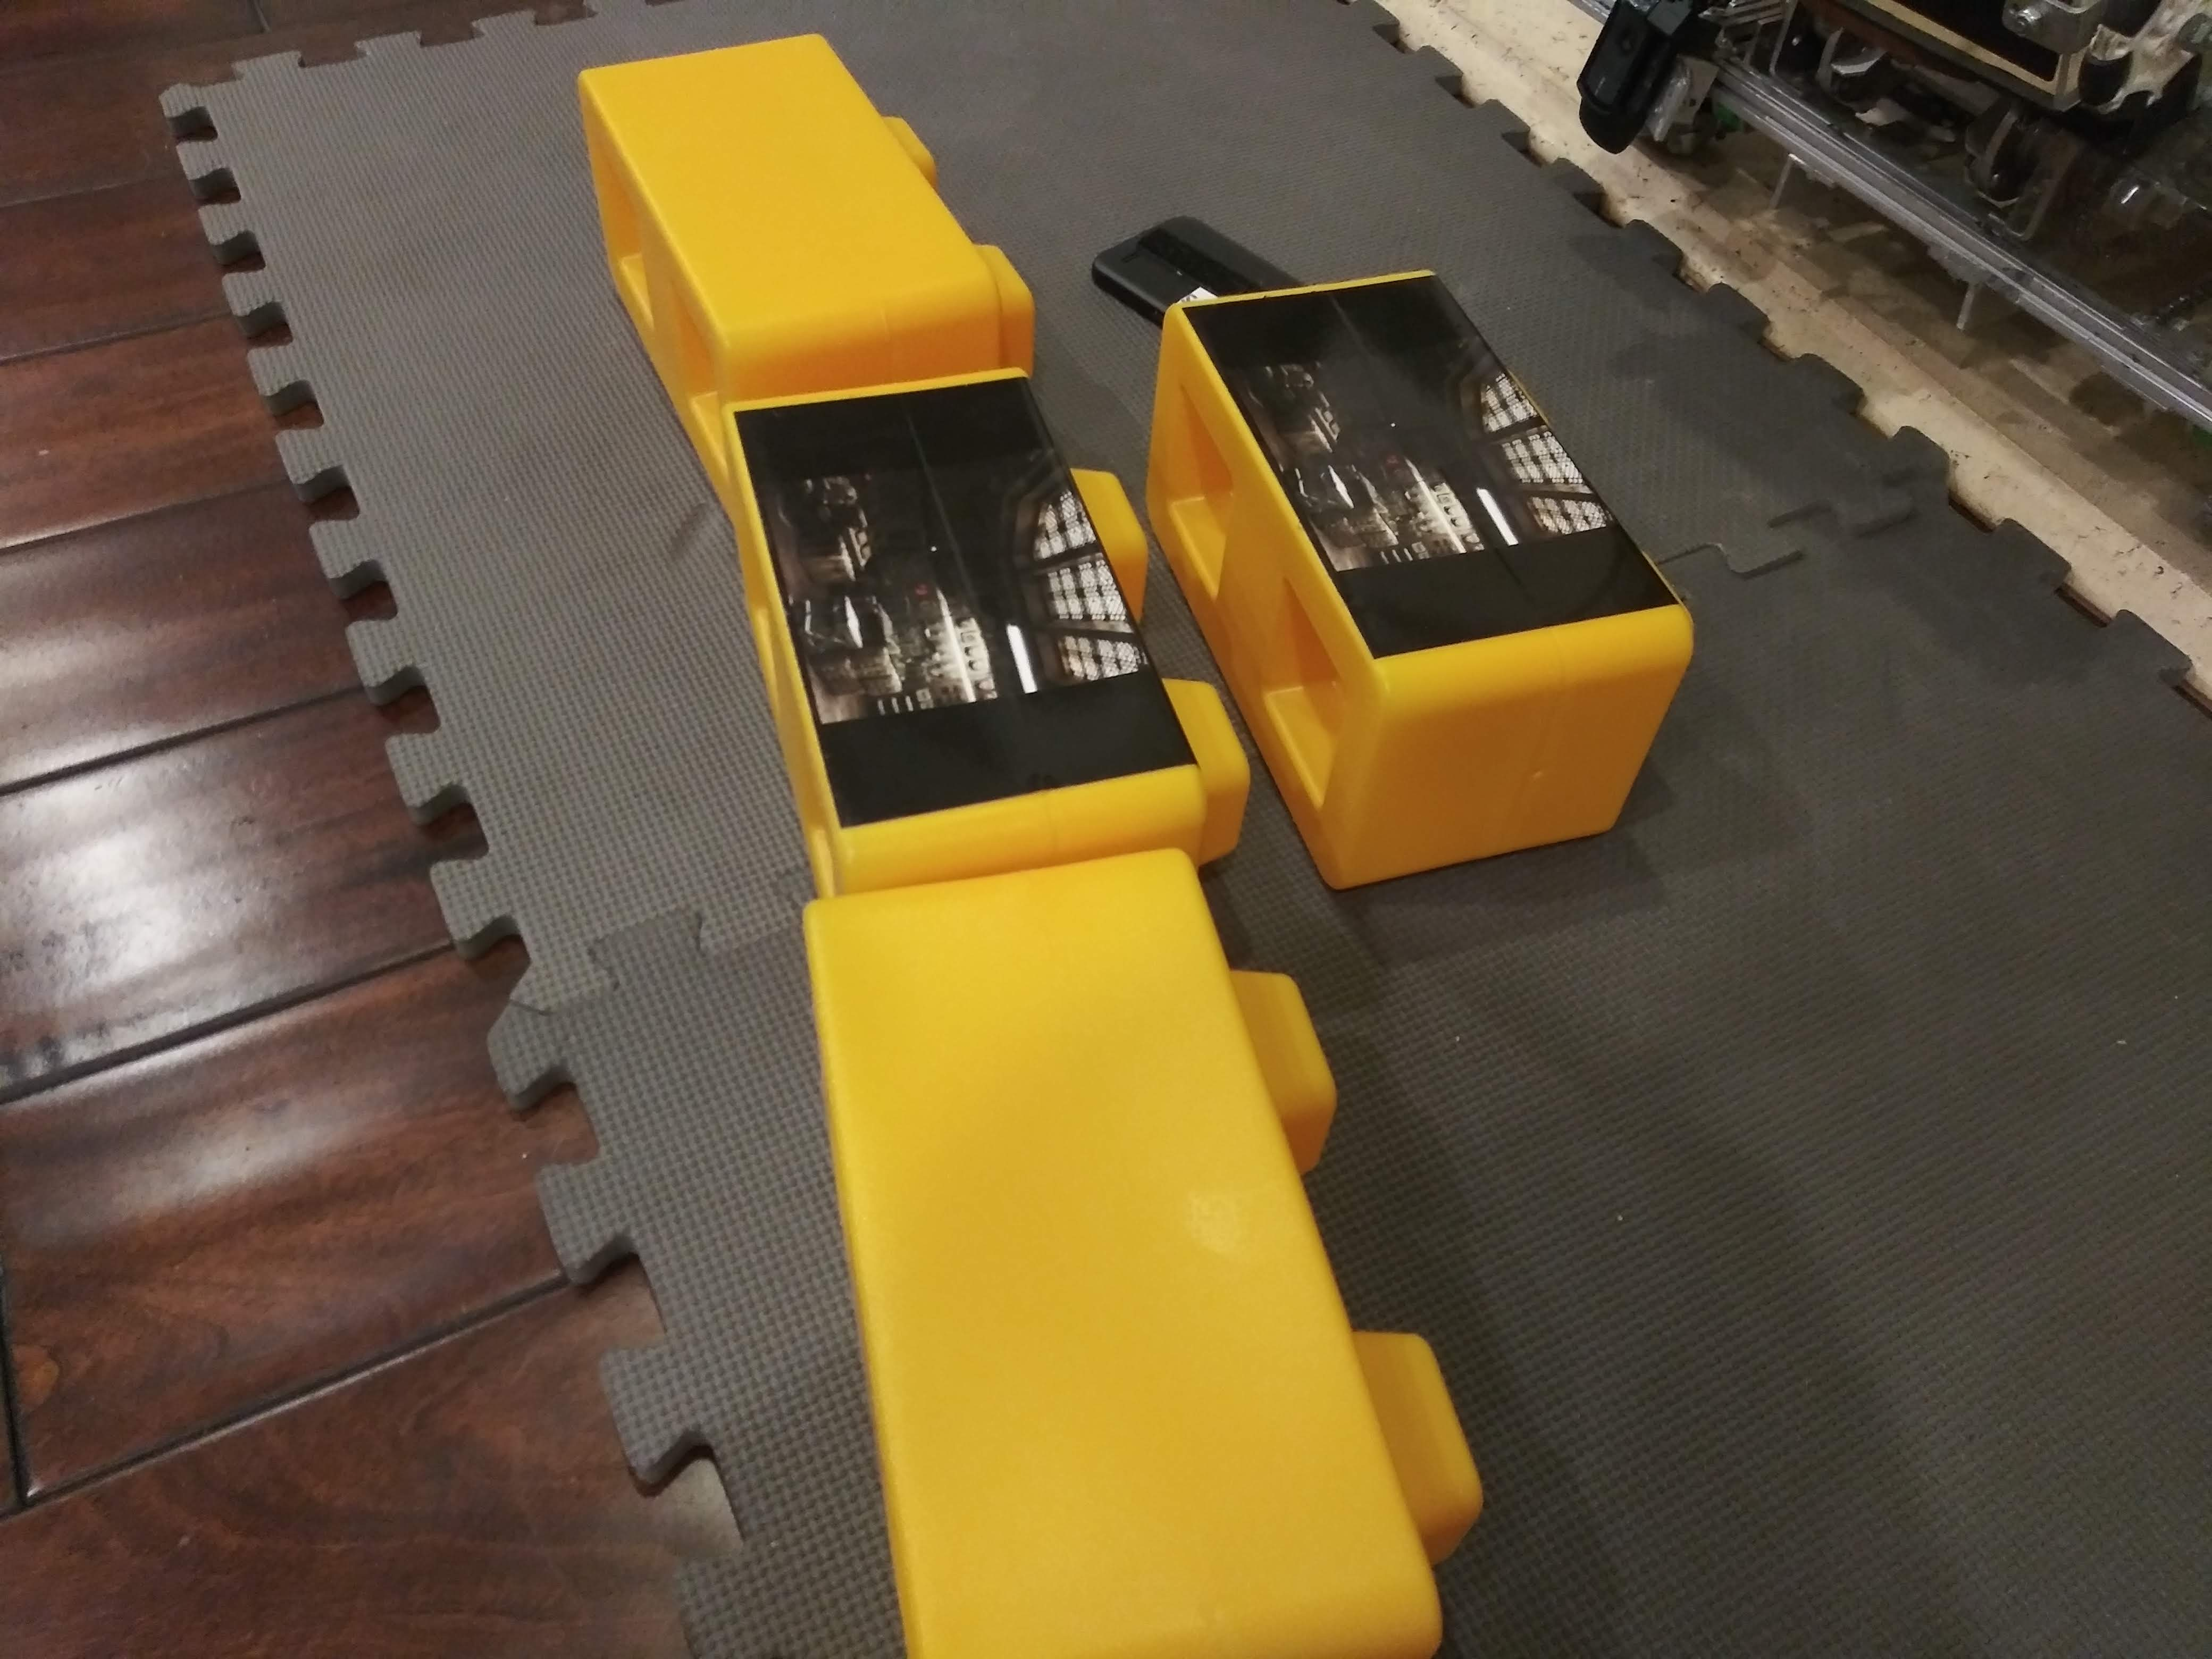skystone: (1162, 291, 1700, 807), (709, 404, 1172, 838)
stone: (775, 894, 1470, 1640), (554, 47, 1050, 366)
